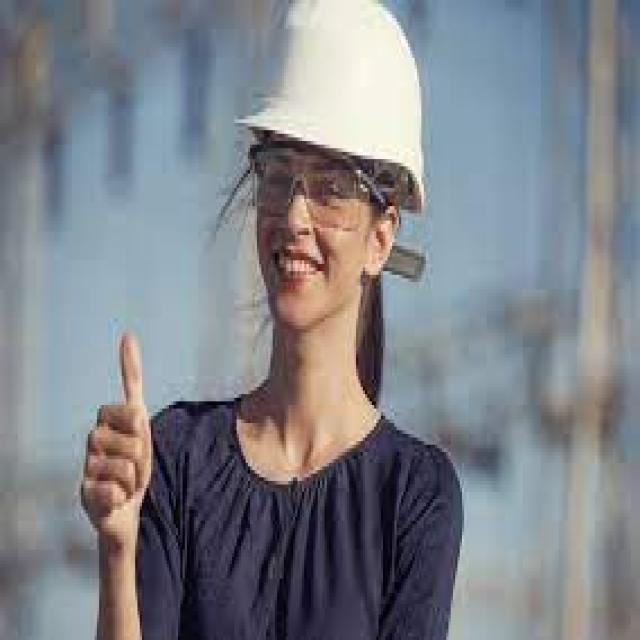glasses: (246, 134, 379, 231)
